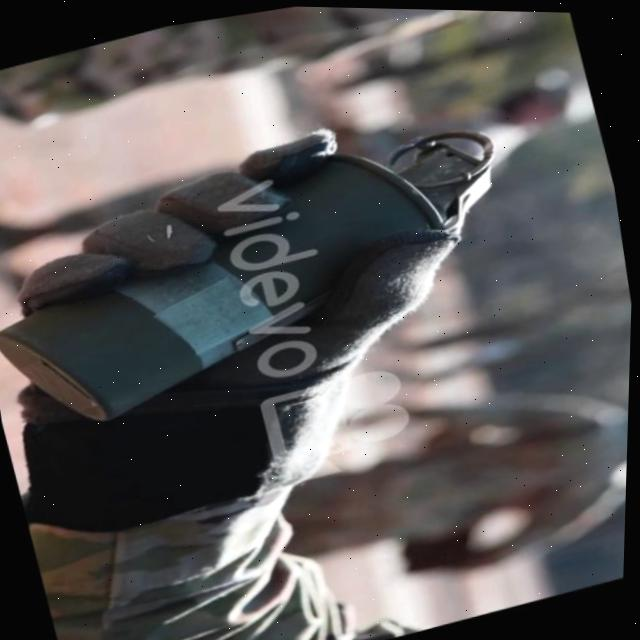grenade: (0, 90, 558, 456)
